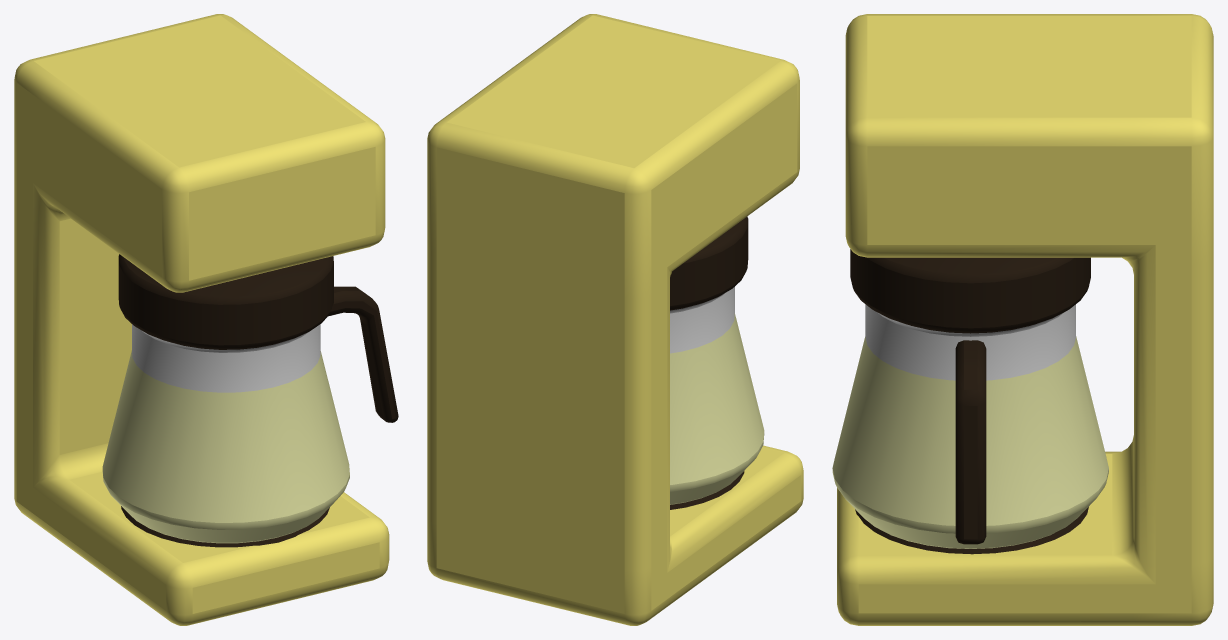
Rendered from cofee_maker_3.fbx.
3 renders of one model, left to right at view 1: azimuth 30°, elevation 25°; view 2: azimuth 150°, elevation 25°; view 3: azimuth 270°, elevation 25°, orthographic. The views are drawn at different scales.
Visible parts, largest first — view 1: Body, Pot, Handle, PotBase; view 2: Body, Pot; view 3: Body, Pot, Handle, PotBase.
Boxes of the visible parts, box(x1,y1,x2,y2) form: Body: box(14, 14, 389, 625); Pot: box(102, 254, 349, 543); Handle: box(328, 286, 398, 422); PotBase: box(121, 506, 329, 547); Body: box(427, 14, 803, 625); Pot: box(670, 216, 764, 504); Body: box(837, 14, 1213, 625); Pot: box(832, 249, 1108, 548); Handle: box(955, 340, 986, 544); PotBase: box(855, 507, 1088, 554).
Size of the model in its own units: 0.6602 by 1.03 by 0.7026.
